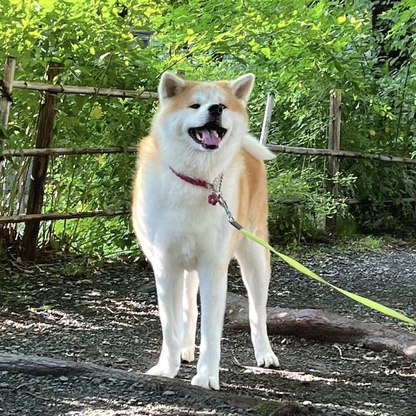akita: (127, 66, 288, 394)
